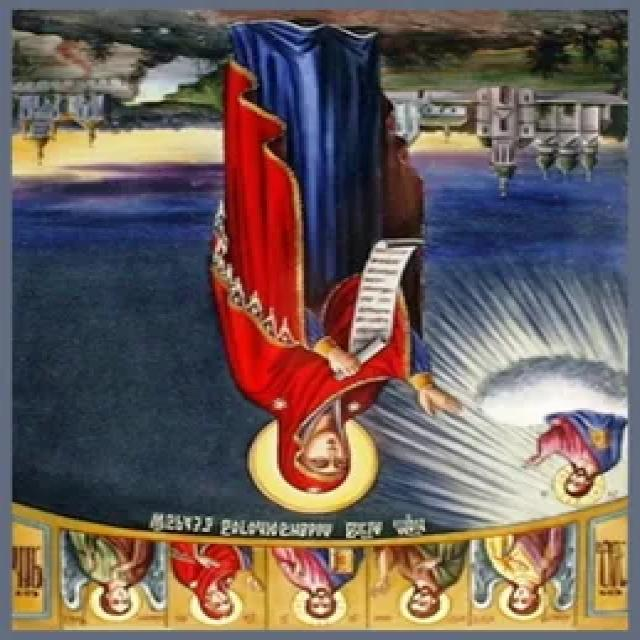mother of god: (218, 21, 458, 516)
